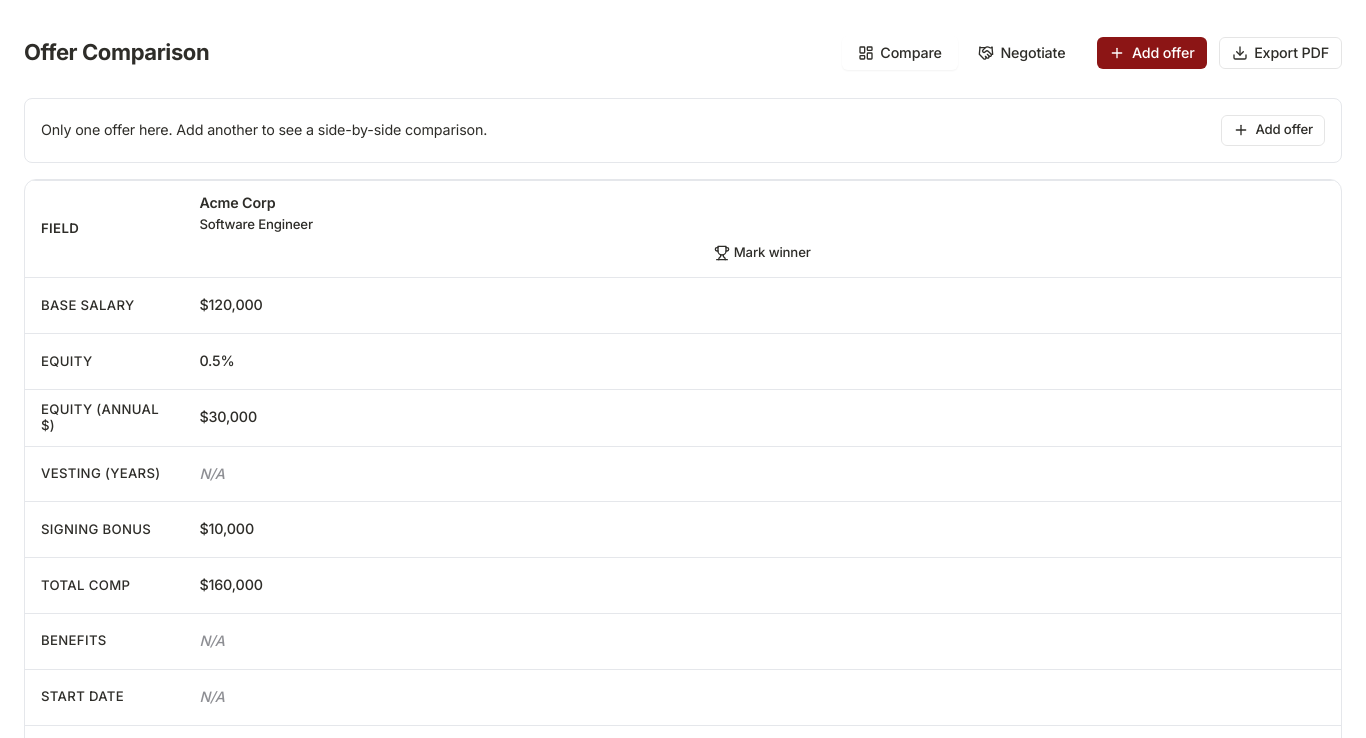
Test: OfferComparison › should reject negative salary input with validation error
The image size is (1366, 738).
Click the button "$120,000".
click(231, 306)  # box [199,290,263,321]
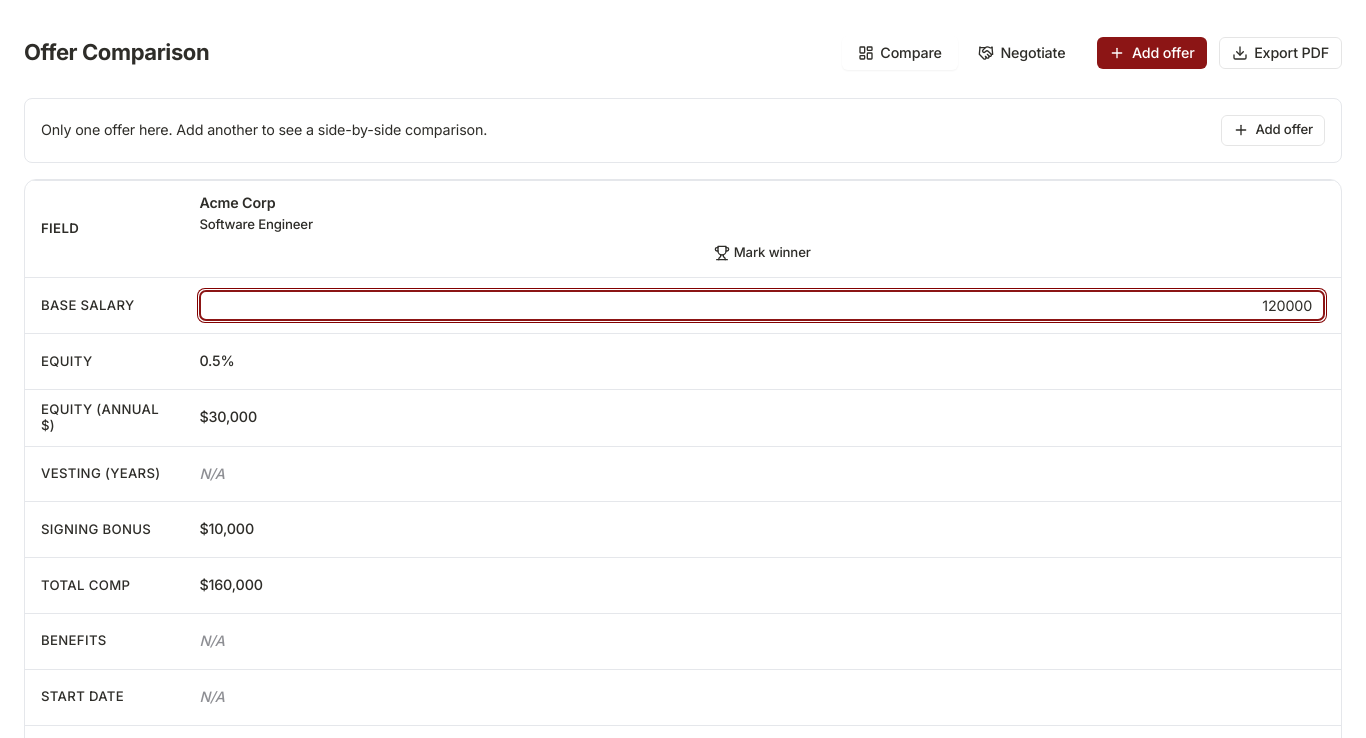
Replace the text in the field named "edit currency" with "-50000" at {"x": 762, "y": 306}, box [199,290,1325,321]
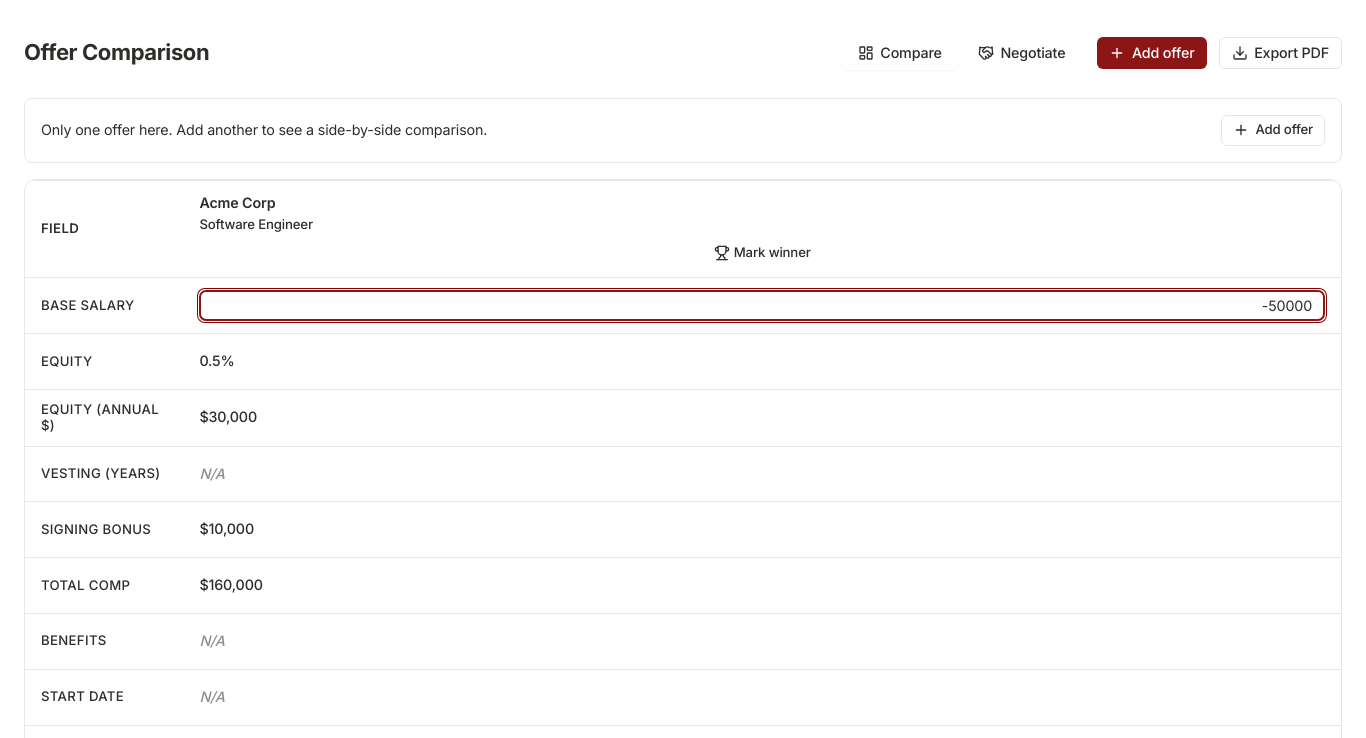
Leave the field named "edit currency", box [199,290,1325,321]
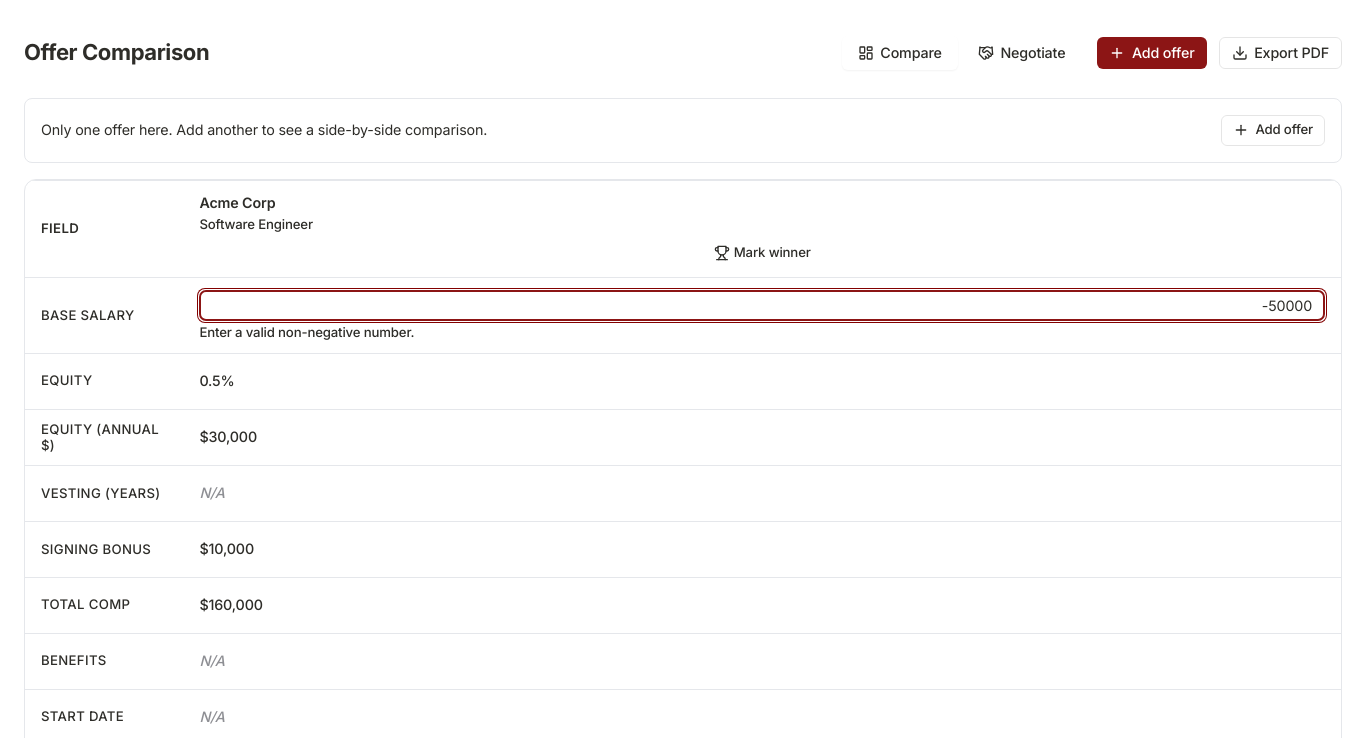
Result: the message shows "valid non-negative" at [199,324,414,340]
